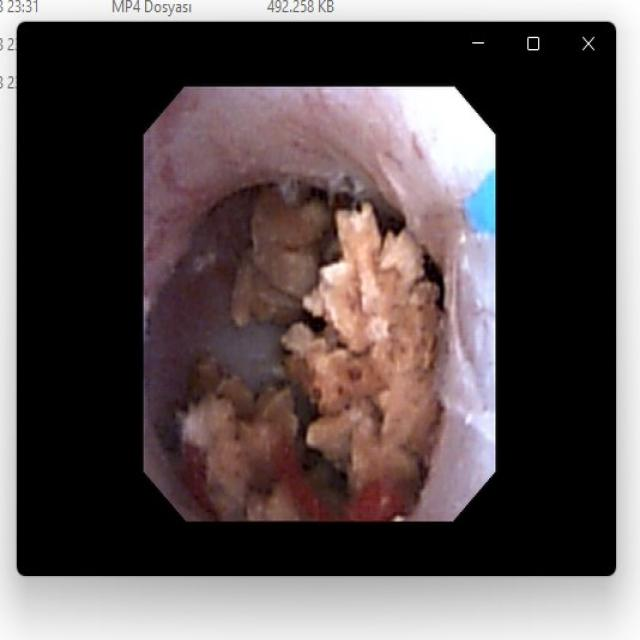stone: (171, 210, 438, 520), (234, 191, 333, 323)
